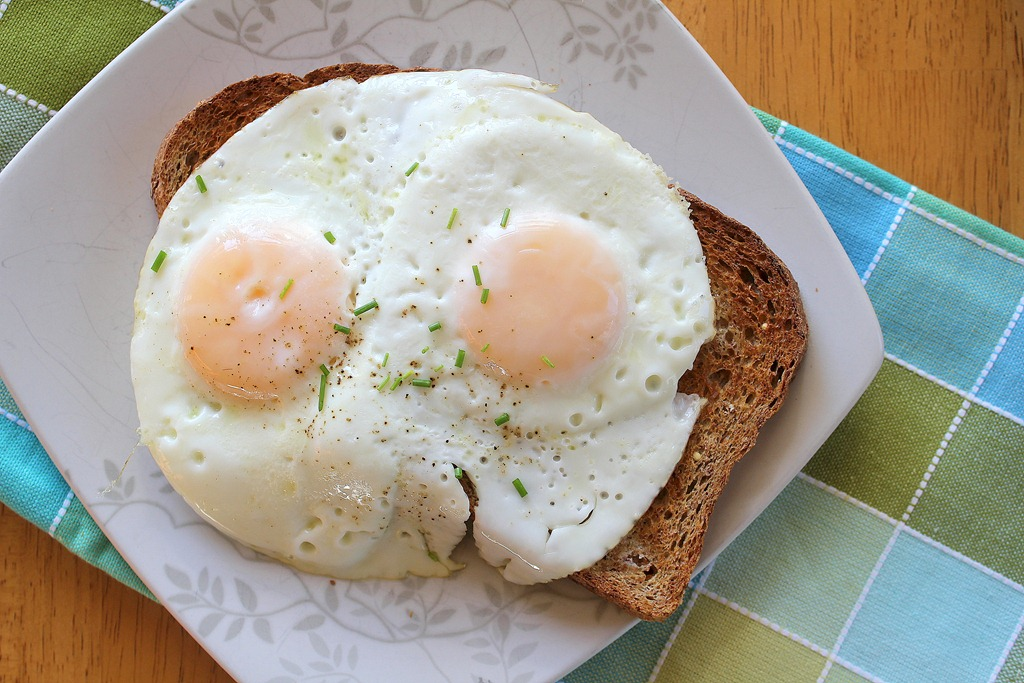fried egg: (127, 72, 707, 575)
slice of bread: (729, 214, 810, 441)
